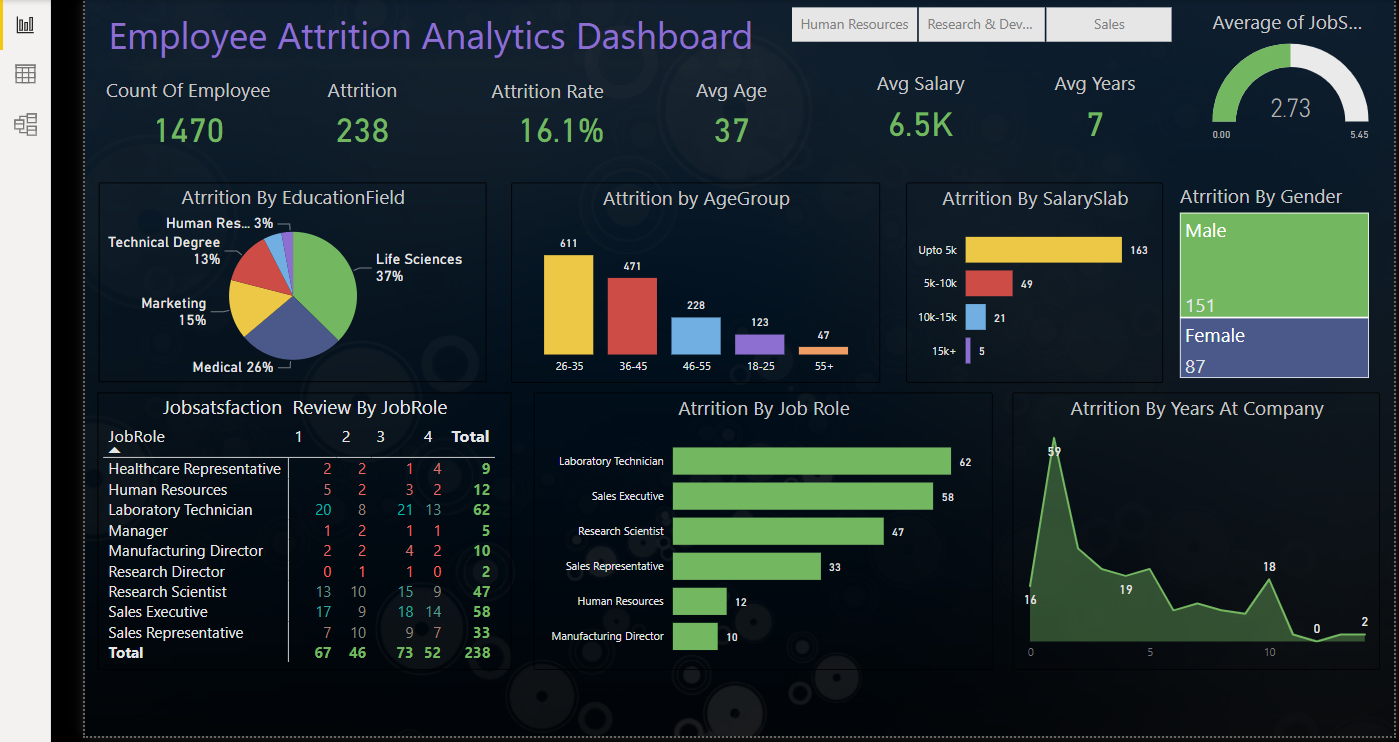

This screenshot's page, from the dashboard's own definition file:
{"tool":"powerbi","page":{"name":"Page 1","canvas":[1280,720],"ordinal":0},"visuals":[{"type":"card","title":"Count Of Employee","fields":{"Values":["Count(HR_Analytics.EmpID)"]},"box":[14,75,175,75],"z":0},{"type":"card","title":"Avg Age","fields":{"Values":["Avg(HR_Analytics.Age)"]},"box":[562.5,74.1,139.9,75.5],"z":1000},{"type":"card","title":"Avg Salary","fields":{"Values":["Avg(HR_Analytics.MonthlyIncome)"]},"box":[727.1,68.6,179.7,75.5],"z":2000},{"type":"card","title":"Avg Years","fields":{"Values":["Avg(HR_Analytics.YearsAtCompany)"]},"box":[909.6,68.6,156.4,75.5],"z":3000},{"type":"shape","title":"Employee Attrition Analytics Dashboard","box":[11,8.2,654.4,60.4],"z":4000},{"type":"slicer","title":"Atrrition By Educationl Field","fields":{"Values":["HR_Analytics.Department"]},"box":[665,0,422,48],"z":5000},{"type":"columnChart","title":"Attrition by AgeGroup","fields":{"Category":["HR_Analytics.AgeGroup"],"Y":["CountNonNull(HR_Analytics.Attrition)"]},"box":[417.1,178.3,360.8,196.2],"z":6000},{"type":"pivotTable","title":"Jobsatsfaction  Review By JobRole","fields":{"Rows":["HR_Analytics.JobRole"],"Columns":["HR_Analytics.JobSatisfaction"],"Values":["Sum(HR_Analytics.Atrrition_Count)"]},"box":[12.2,383.8,404.6,271.4],"z":7000},{"type":"barChart","title":"Atrrition By SalarySlab","fields":{"Category":["HR_Analytics.SalarySlab"],"Y":["Sum(HR_Analytics.Atrrition_Count)"]},"box":[802.6,178.3,251.1,196.2],"z":8000},{"type":"barChart","title":"Atrrition By Job Role","fields":{"Category":["HR_Analytics.JobRole"],"Y":["Sum(HR_Analytics.Atrrition_Count)"]},"box":[438.8,383.8,448.6,271.4],"z":9000},{"type":"areaChart","title":"Atrrition By Years At Company","fields":{"Category":["HR_Analytics.YearsAtCompany"],"Y":["Sum(HR_Analytics.Atrrition_Count)"]},"box":[887.5,383.8,359.4,271.4],"z":10000},{"type":"gauge","fields":{"Y":["Avg(HR_Analytics.JobSatisfaction)"]},"box":[1097.7,8.6,162.6,140.6],"z":11000},{"type":"card","title":"Attrition","fields":{"Values":["Sum(HR_Analytics.Atrrition_Count)"]},"box":[188,75,166,75],"z":12000},{"type":"card","title":"Attrition Rate","fields":{"Values":["HR_Analytics.Attrition Rate"]},"box":[392.4,75.5,145.4,74.1],"z":13000},{"type":"treemap","title":"Atrrition By Gender","fields":{"Group":["HR_Analytics.Gender"],"Values":["Sum(HR_Analytics.Atrrition_Count)"]},"box":[1066,178.3,194.8,196.2],"z":14000},{"type":"pieChart","title":"Atrrition By EducationField","fields":{"Category":["HR_Analytics.EducationField"],"Y":["Sum(HR_Analytics.Atrrition_Count)"]},"box":[13.4,178.5,378.9,195.6],"z":15000}]}

Visuals, with their boxes on the page's 1280x720 design canvas (x1, y1, x2, y2). These are canvas units, not pixel positions in the 1399x742 screenshot, which may show the page scaled, cropped or inside an application window:
"Count Of Employee" card: Rect(14, 75, 189, 150)
"Avg Age" card: Rect(562, 74, 702, 150)
"Avg Salary" card: Rect(727, 69, 907, 144)
"Avg Years" card: Rect(910, 69, 1066, 144)
"Employee Attrition Analytics Dashboard" shape: Rect(11, 8, 665, 69)
"Atrrition By Educationl Field" slicer: Rect(665, 0, 1087, 48)
"Attrition by AgeGroup" columnChart: Rect(417, 178, 778, 374)
"Jobsatsfaction  Review By JobRole" pivotTable: Rect(12, 384, 417, 655)
"Atrrition By SalarySlab" barChart: Rect(803, 178, 1054, 374)
"Atrrition By Job Role" barChart: Rect(439, 384, 887, 655)
"Atrrition By Years At Company" areaChart: Rect(888, 384, 1247, 655)
gauge - Avg(HR_Analytics.JobSatisfaction): Rect(1098, 9, 1260, 149)
"Attrition" card: Rect(188, 75, 354, 150)
"Attrition Rate" card: Rect(392, 76, 538, 150)
"Atrrition By Gender" treemap: Rect(1066, 178, 1261, 374)
"Atrrition By EducationField" pieChart: Rect(13, 178, 392, 374)
